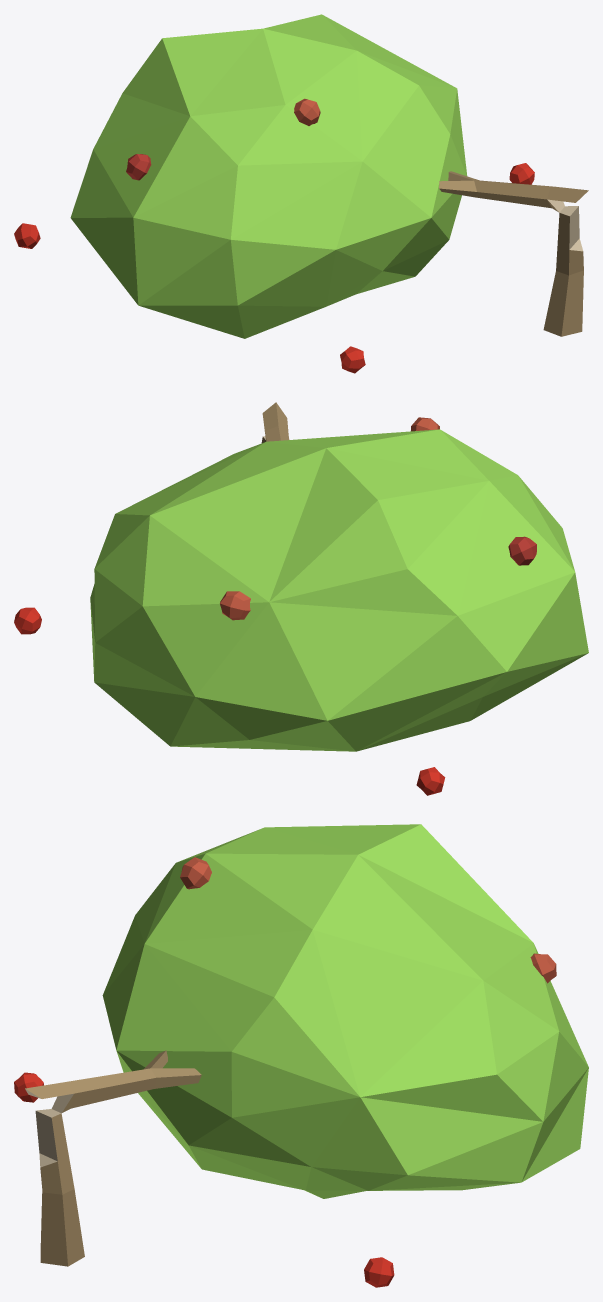
Rendered from Apple_Tree_Apples_crk_m_01_LOD.fbx.
3 renders of one model, top to bottom at view 1: azimuth 30°, elevation 25°; view 2: azimuth 150°, elevation 25°; view 3: azimuth 270°, elevation 25°, orthographic. The views are drawn at different scales.
Parts seen in each view (by area): view 1: Apple_Tree_Apples_crk_m_01_LOD0; view 2: Apple_Tree_Apples_crk_m_01_LOD0; view 3: Apple_Tree_Apples_crk_m_01_LOD0.
Boxes of the visible parts, box(x1,y1,x2,y2) form: Apple_Tree_Apples_crk_m_01_LOD0: box(14, 14, 588, 373); Apple_Tree_Apples_crk_m_01_LOD0: box(14, 402, 588, 795); Apple_Tree_Apples_crk_m_01_LOD0: box(14, 824, 588, 1287).
Size of what is drawn, in the model's own units: 598 by 310 by 539.
